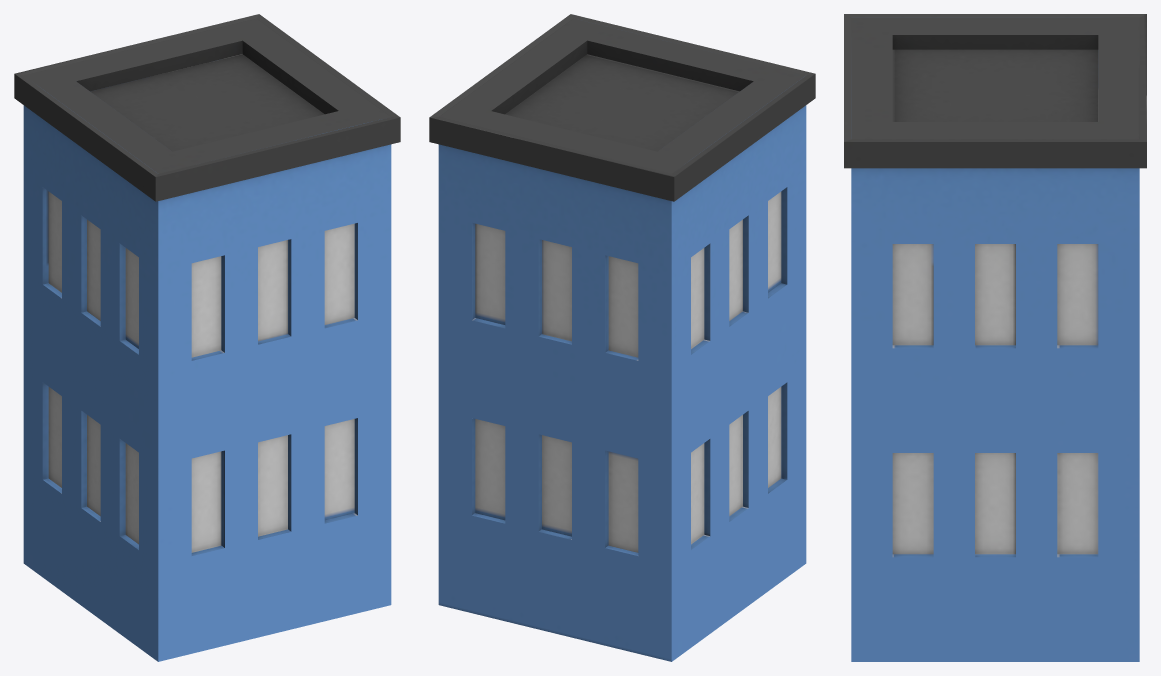
The model's file is lowPolyBuild6OLD.glb.
3 renders of one model, left to right at view 1: azimuth 30°, elevation 25°; view 2: azimuth 150°, elevation 25°; view 3: azimuth 270°, elevation 25°, orthographic. The views are drawn at different scales.
Visible parts, largest first — view 1: Plane; view 2: Plane; view 3: Plane.
Part boxes in pixels (x1,y1,x2,y2): Plane: [14, 14, 400, 661]; Plane: [429, 14, 815, 661]; Plane: [844, 14, 1146, 661].
Bounding box in the file's own units: 2.1 × 4 × 2.1.
Materials: 1 (1 with a texture image).
